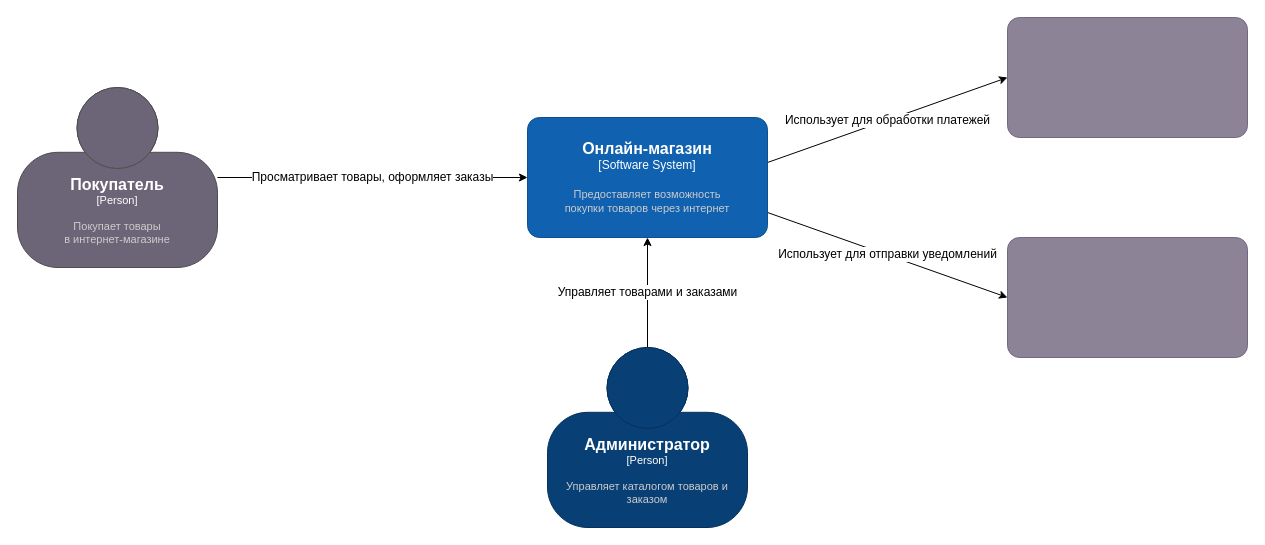
The diagram is 1265 pixels wide and 545 high, and some of its shapes have lost their labels. The shapes that lost their labels are listed below. From the top down, each one's centre as x and y in pixels, then its label:
At point 1127,77: "Платёжный шлюз [Software System] Обработка электронных платежей".
At point 1127,297: "Почтовый сервис [Software System] Отправляет уведомления по электронной почте".
